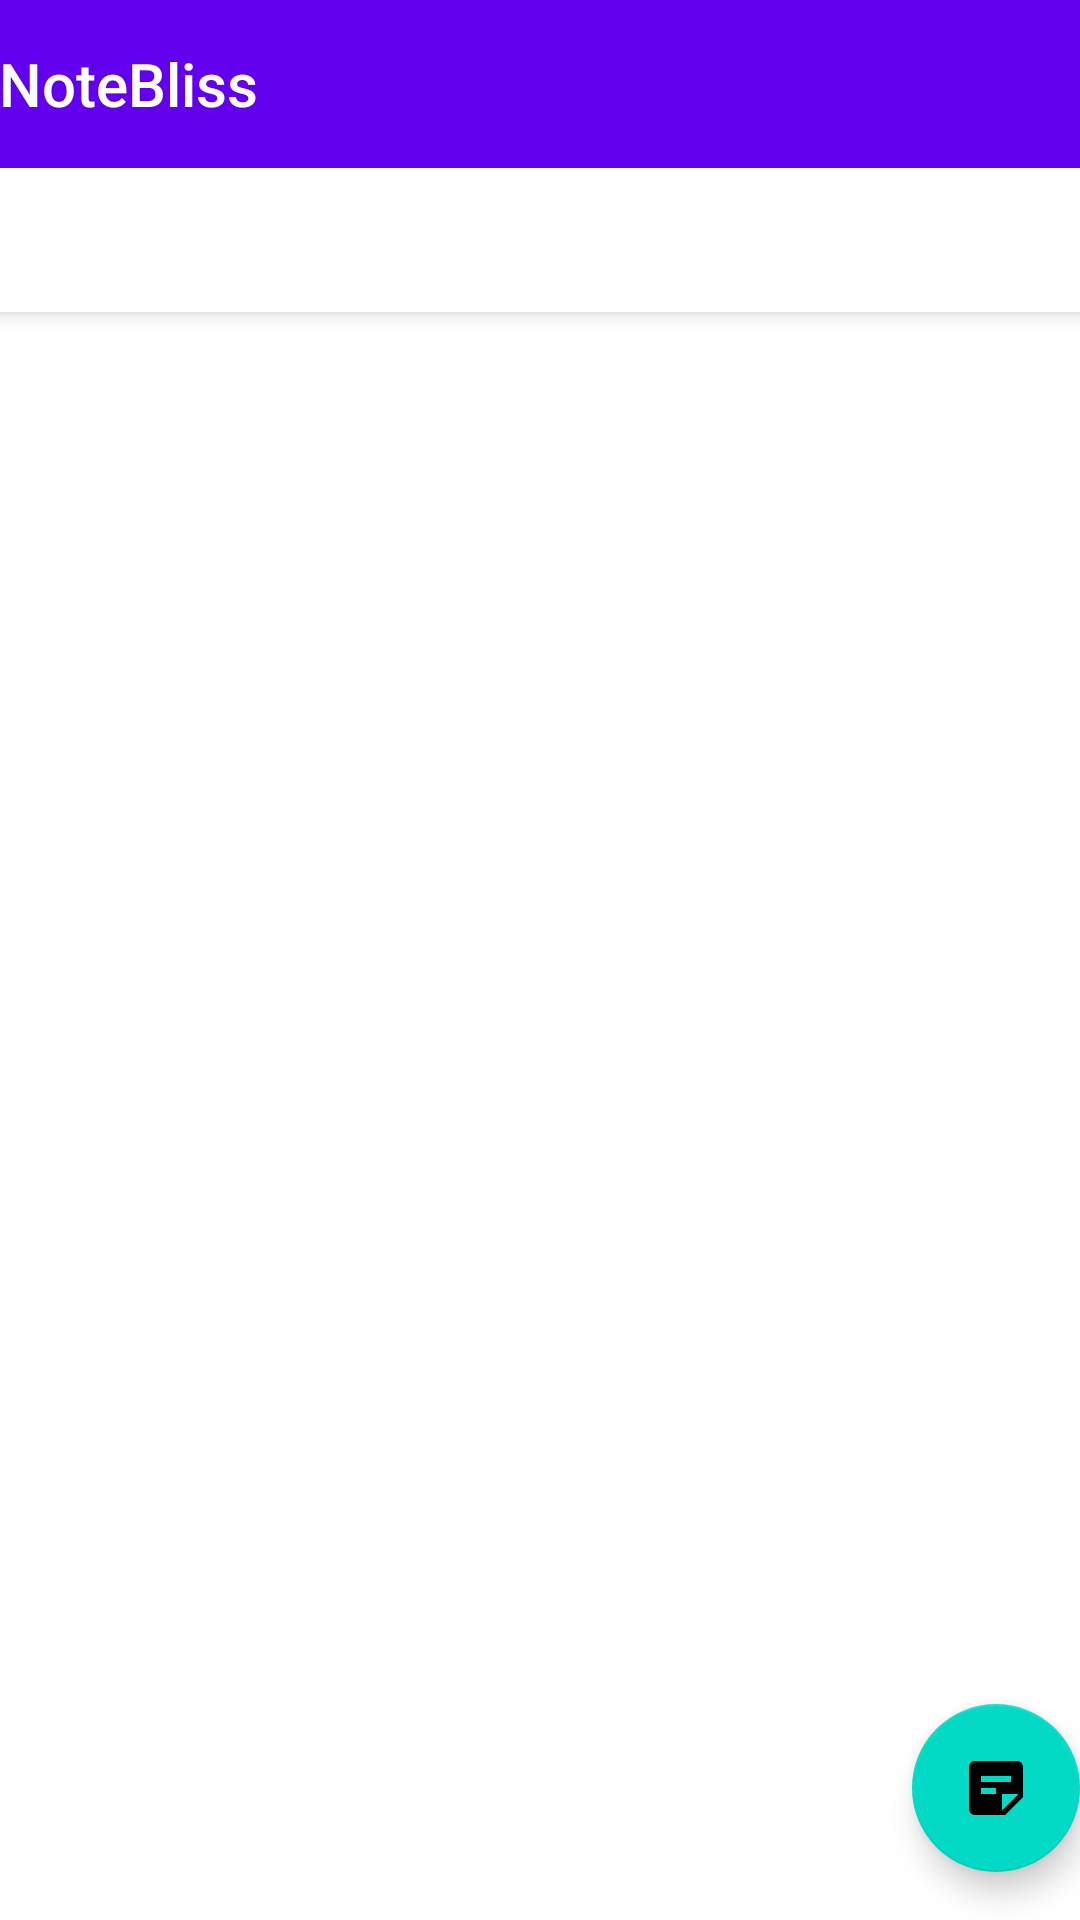

Where to tap for icons on this 1080w x 1920h app screen, as point (x, y):
notes: point (996, 1788)
